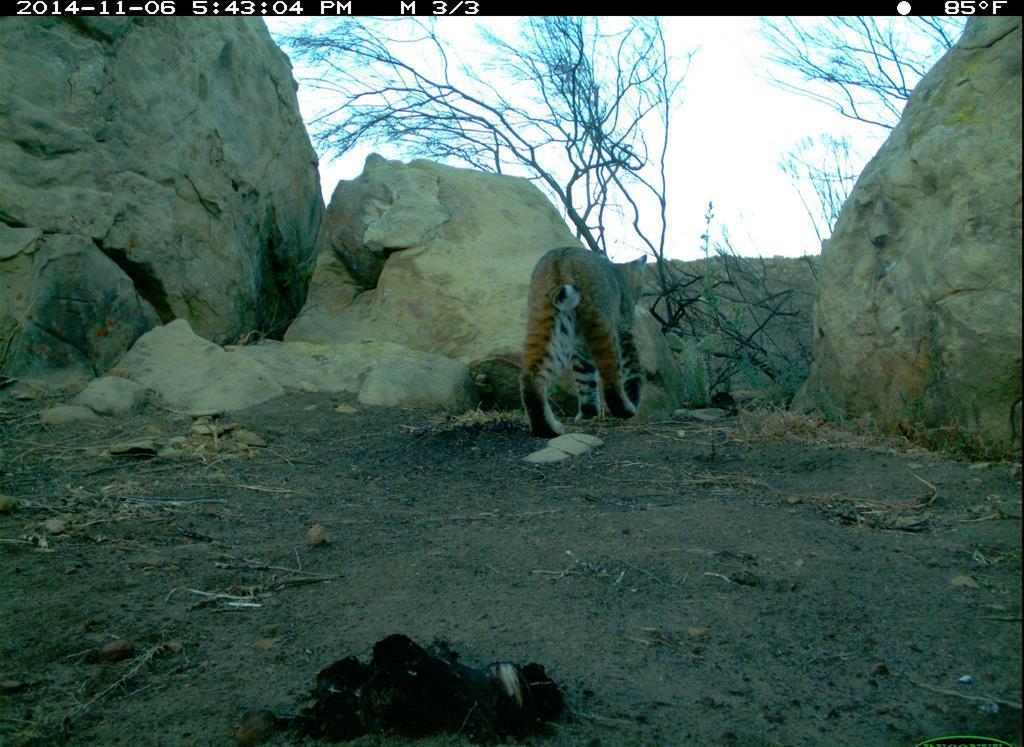bobcat: (511, 237, 665, 441)
